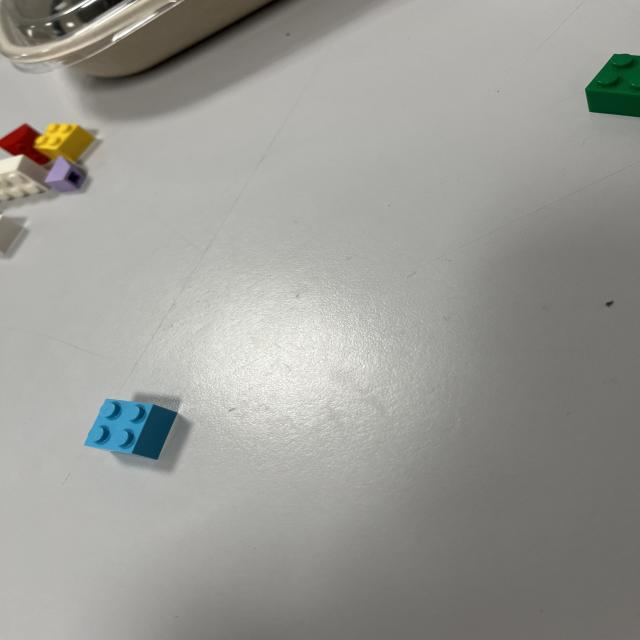C2x2x1: (78, 391, 184, 466)
